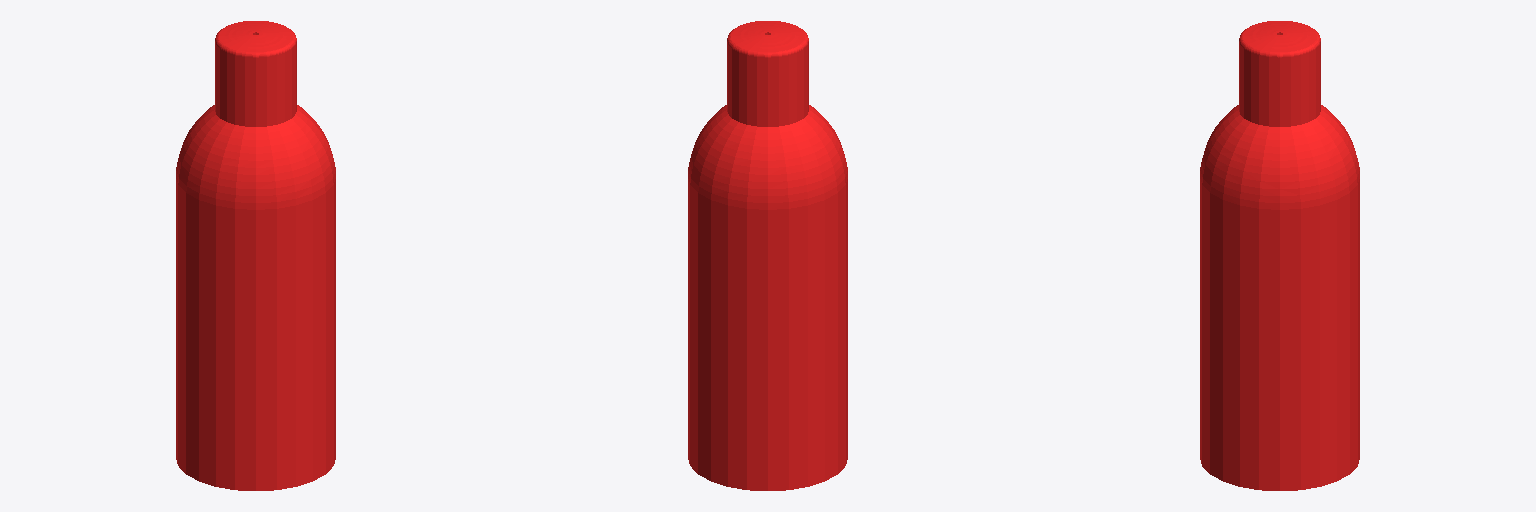
The robot description file, URDF, robot "bottle":
<?xml version="0.0" ?>
<robot name="bottle">
    <link concave="yes" name="base_link">
        <!-- <contact>
            <lateral_friction value="3.0"/>
            <rolling_friction value="3.0"/>
            <spinning_friction value="3.0"/>
        </contact> -->
        <inertial>
            <origin xyz="0 0 0.03"/>
            <mass value="1"/>
            <inertia ixx="1" ixy="0" ixz="0" iyy="1" iyz="0" izz="1"/>
        </inertial>
        <visual>
            <origin xyz="0.0 -0.0  0"/>
            <geometry>
                <mesh filename="bottle.obj" scale="0.03 0.03 0.03 "/>
            </geometry>
      <material name="bottle">
        <color rgba="1.0 0.2 0.2 1"/>
        <specular rgb="1 1 1"/>
      </material>
        </visual>
        <collision concave="yes">
            <origin xyz="0.0 -0.0 0"/>
            <geometry>
                <mesh filename="bottle.obj" scale="0.03 0.03 0.03 "/>
            </geometry>
        </collision>
    </link>
</robot>

--- What the picture shows (computed from the rendered views, not written in the file) ---
The picture shows the robot from 3 angles, left to right: view 1: azimuth 30°, elevation 25°; view 2: azimuth 150°, elevation 25°; view 3: azimuth 270°, elevation 25°; orthographic projection.
Model bottle with 1 links and 0 joints (none), rooted at base_link, posed all joints at 0.
Visible links, largest first — view 1: base_link; view 2: base_link; view 3: base_link.
Boxes of the visible links, x1,y1,x2,y2 form: base_link: (176,21,335,490); base_link: (688,21,847,490); base_link: (1200,21,1359,490).
Size in the robot's own frame: 0.0528 by 0.0528 by 0.1535 metres.
1 mesh visuals loaded from 1 distinct referenced files (1 OBJ).